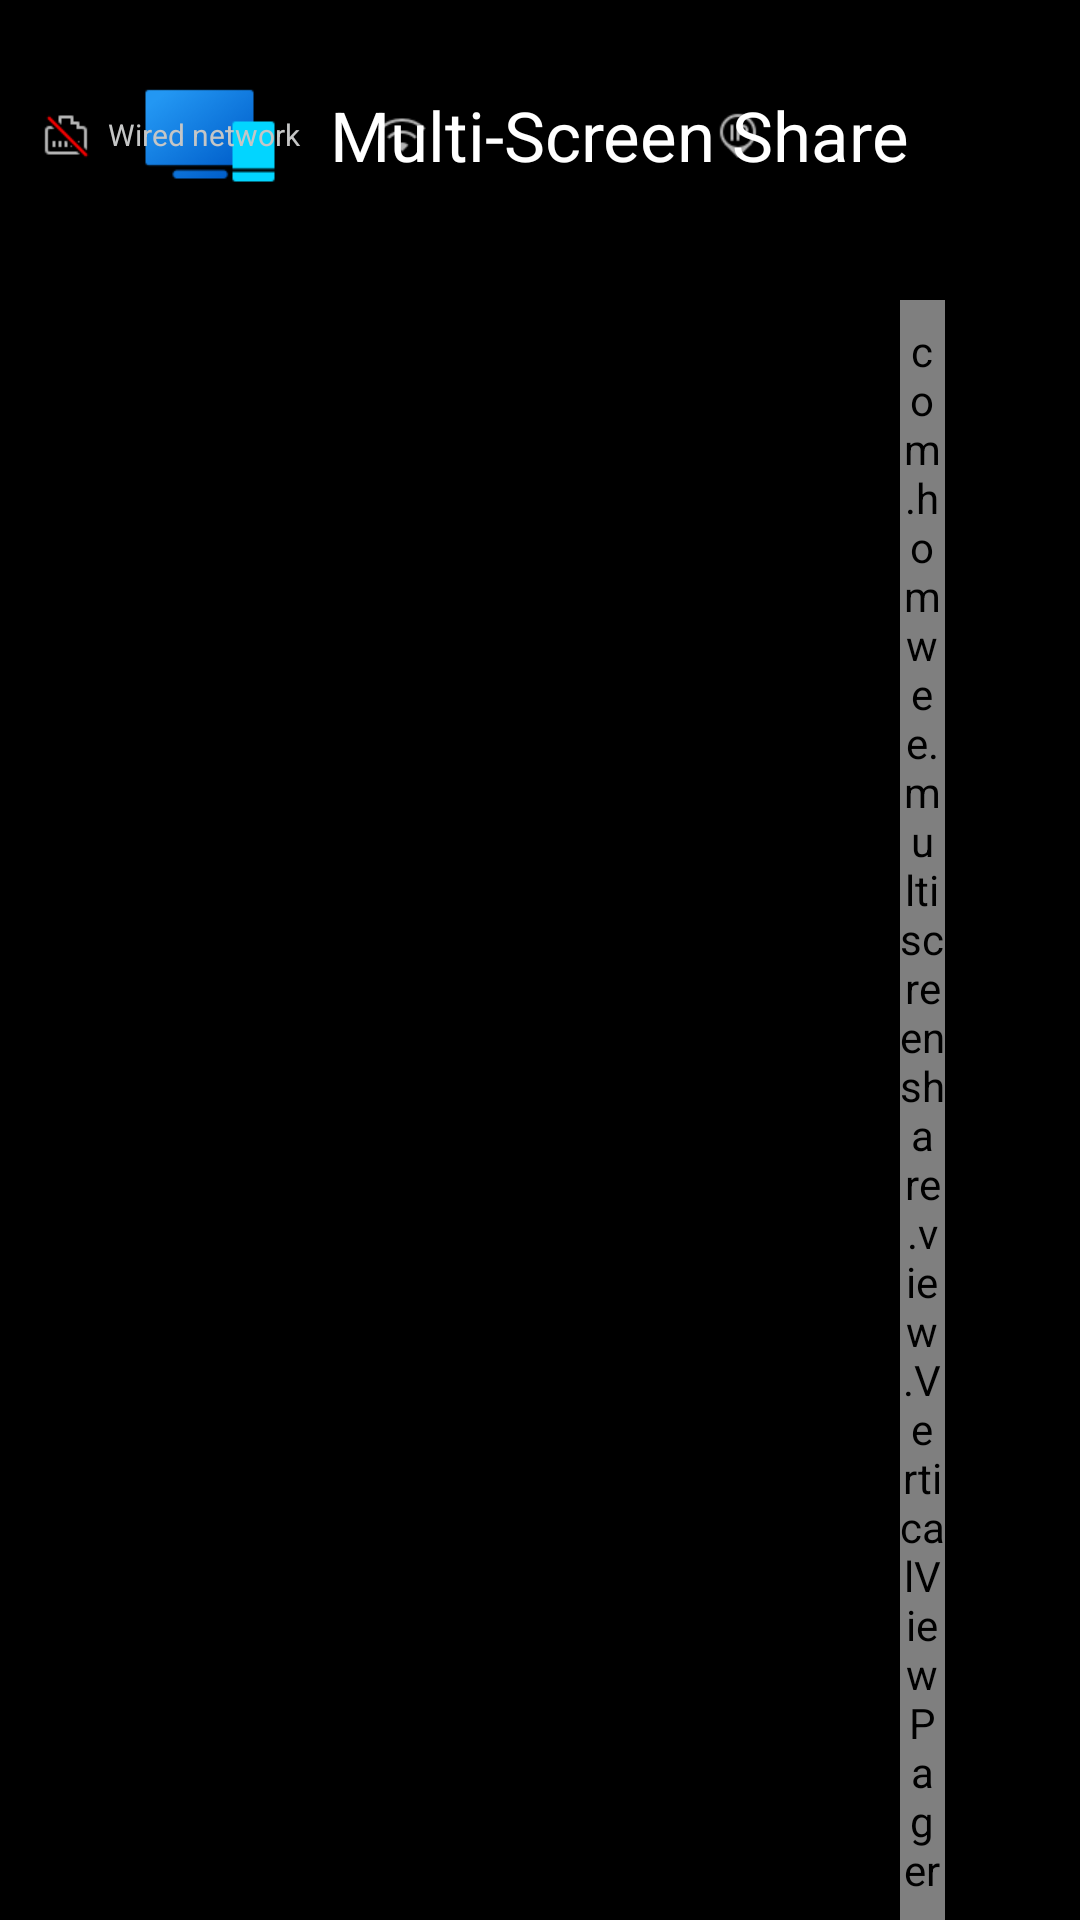

Icons on this 1080x1920 Android screen, each with the point to tap as point (x, y):
noeth: point (66, 136)
